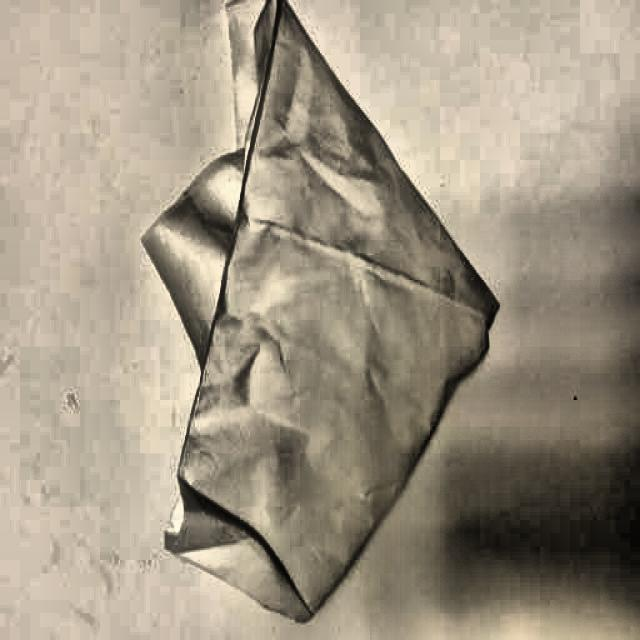paper: (169, 13, 477, 561)
